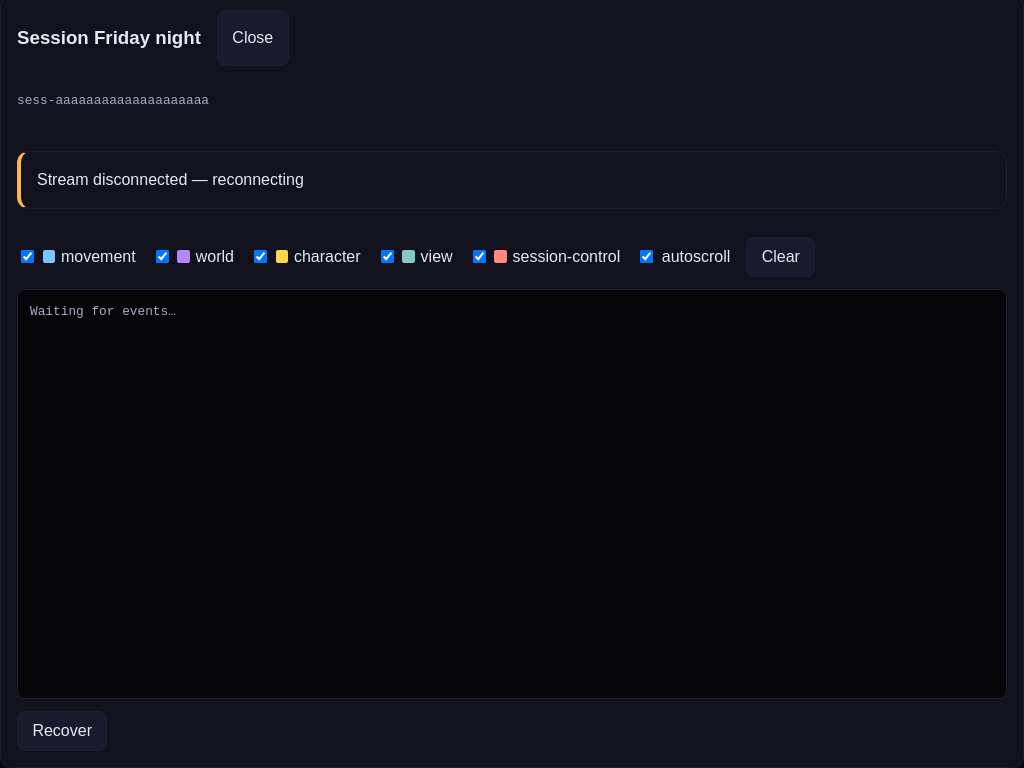
GamesAdminLiveComponent (A2) › recovers only on the confirming second click
(page scrolled)
Click the button with test id "games-admin-recover".
click(62, 731)  # box [17, 711, 107, 751]
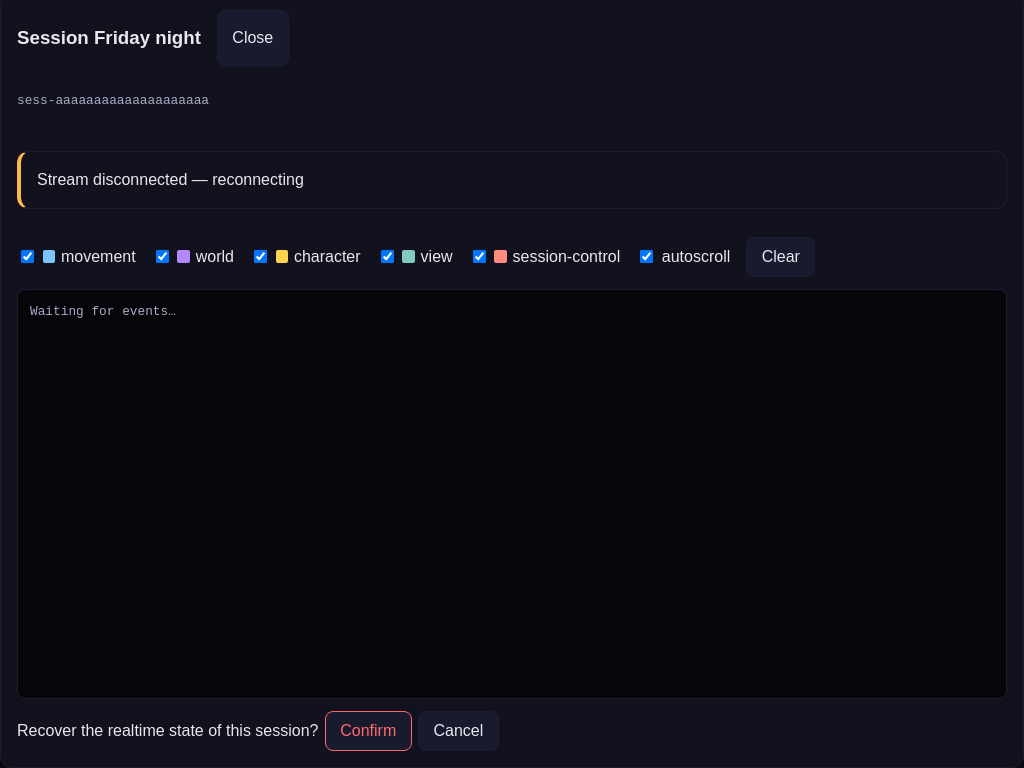
Click the button with test id "games-admin-recover".
click(368, 731)  # box [325, 711, 412, 751]
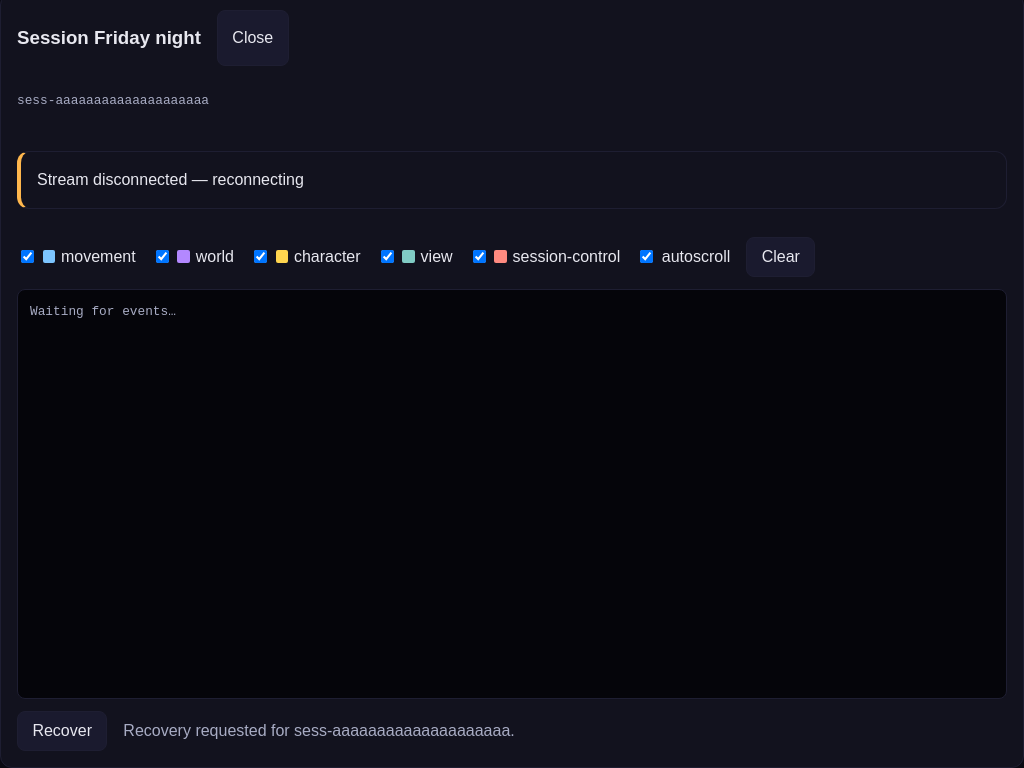
Result: the text with test id "games-admin-recover-result" shows "Recovery requested" at [123, 722, 515, 739]
